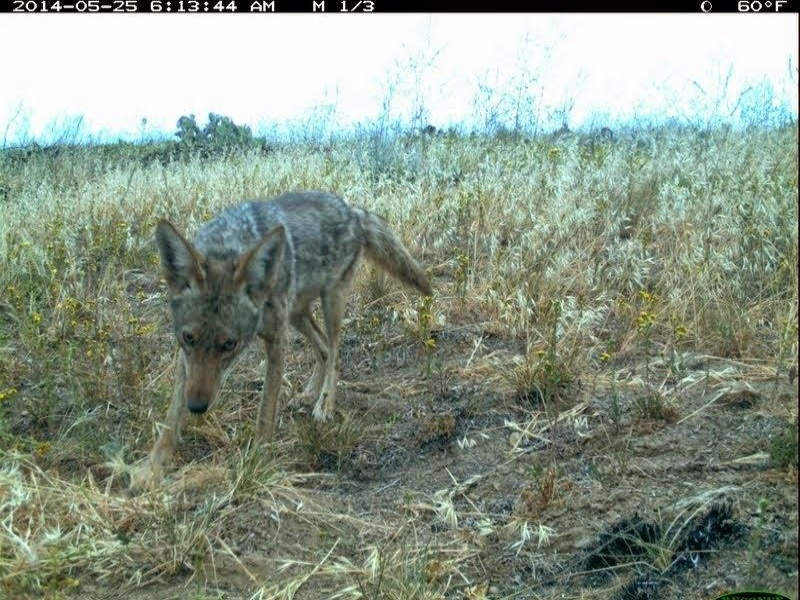coyote: (152, 187, 434, 461)
